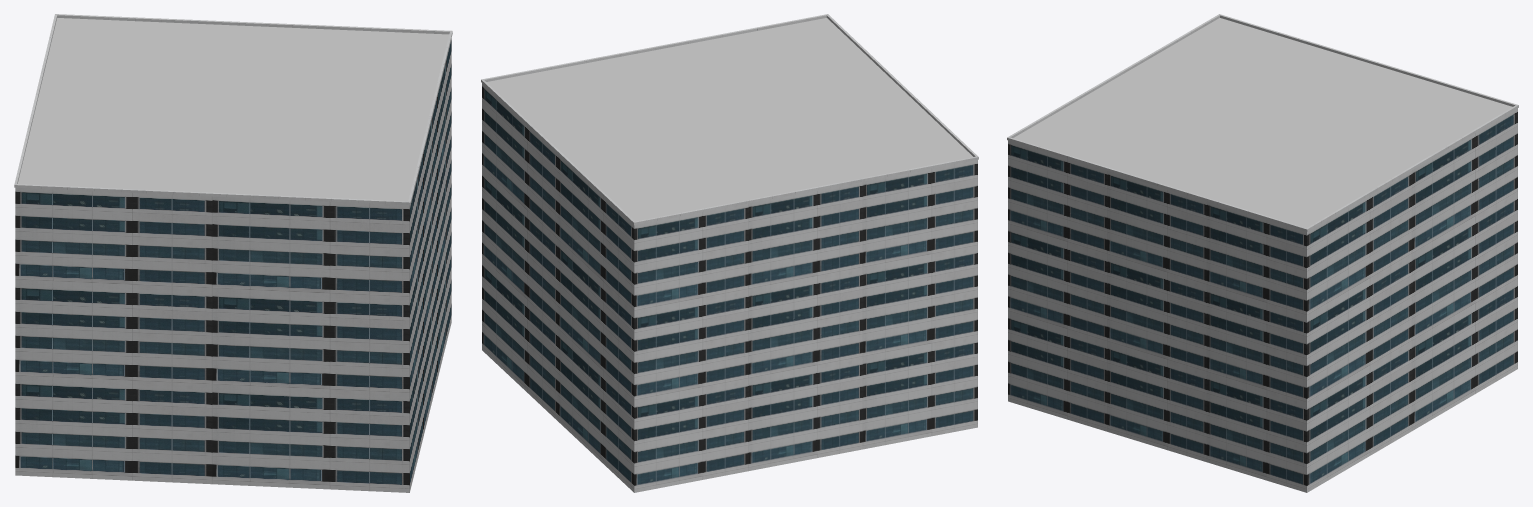
The model's file is Building_097.fbx.
The picture shows the model from 3 angles, left to right: view 1: azimuth 30°, elevation 25°; view 2: azimuth 150°, elevation 25°; view 3: azimuth 270°, elevation 25°; orthographic projection. The views are drawn at different scales.
Visible parts, largest first — view 1: Building_097:bricks, Roofpanels; view 2: Building_097:bricks, Roofpanels; view 3: Building_097:bricks, Roofpanels.
Boxes of the visible parts, x1=… form: Building_097:bricks: x1=14, y1=14, x2=452, y2=492; Roofpanels: x1=18, y1=18, x2=449, y2=201; Building_097:bricks: x1=481, y1=14, x2=978, y2=492; Roofpanels: x1=486, y1=18, x2=972, y2=221; Building_097:bricks: x1=1007, y1=14, x2=1518, y2=492; Roofpanels: x1=1013, y1=18, x2=1512, y2=227.
Size of the model in its own units: 4710 by 2689 by 4728.
